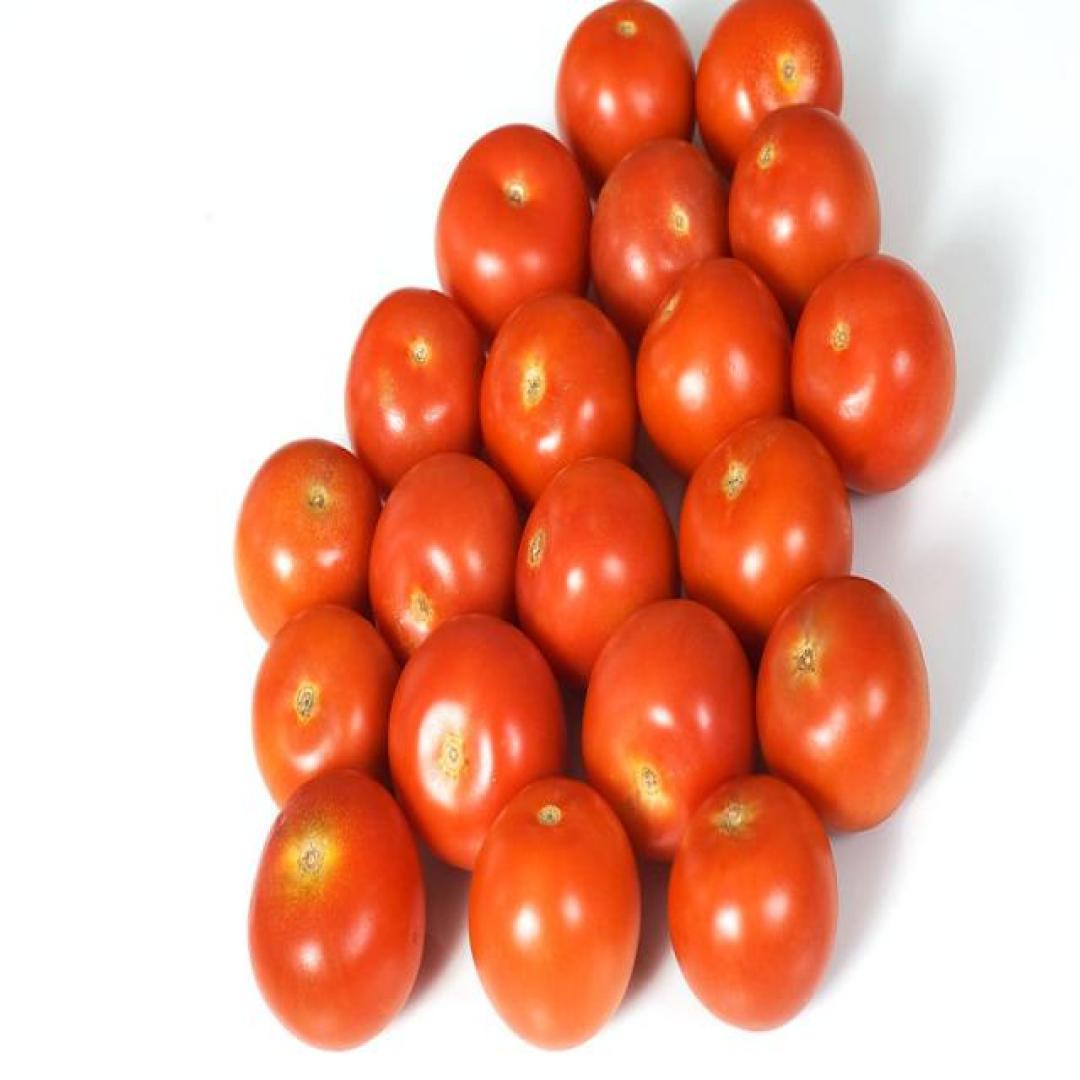matang: (250, 770, 424, 1050), (388, 609, 567, 874), (467, 776, 638, 1046), (754, 576, 928, 836), (580, 599, 752, 861), (667, 770, 838, 1032), (514, 457, 683, 697), (790, 253, 955, 495), (233, 437, 393, 658), (633, 258, 791, 479), (434, 120, 594, 337), (344, 288, 490, 492)
